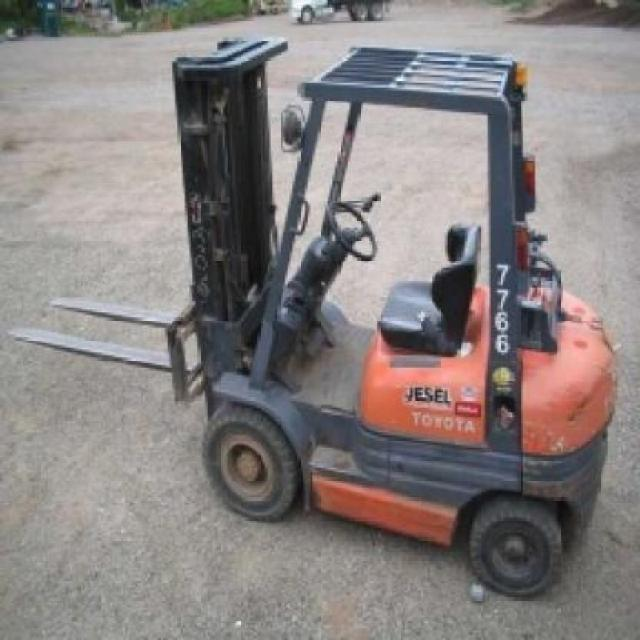forklift: (168, 40, 620, 599)
